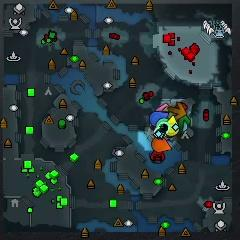p1: (150, 110, 168, 128)
p2: (156, 118, 168, 129)
p2Clone: (158, 122, 170, 133), (154, 128, 167, 137)
p4: (166, 115, 180, 137)
p5: (150, 138, 172, 152)
x1: (156, 102, 169, 112)
x4: (179, 114, 191, 133)
x5: (169, 101, 186, 119)
